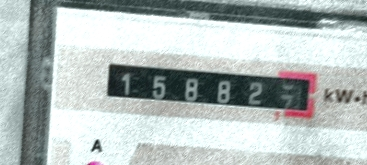1: (119, 66, 135, 96)
2: (246, 78, 265, 106)
5: (150, 71, 170, 102)
7: (279, 90, 293, 108)
8: (182, 74, 200, 103), (215, 76, 233, 105)
screen: (94, 45, 325, 126)
